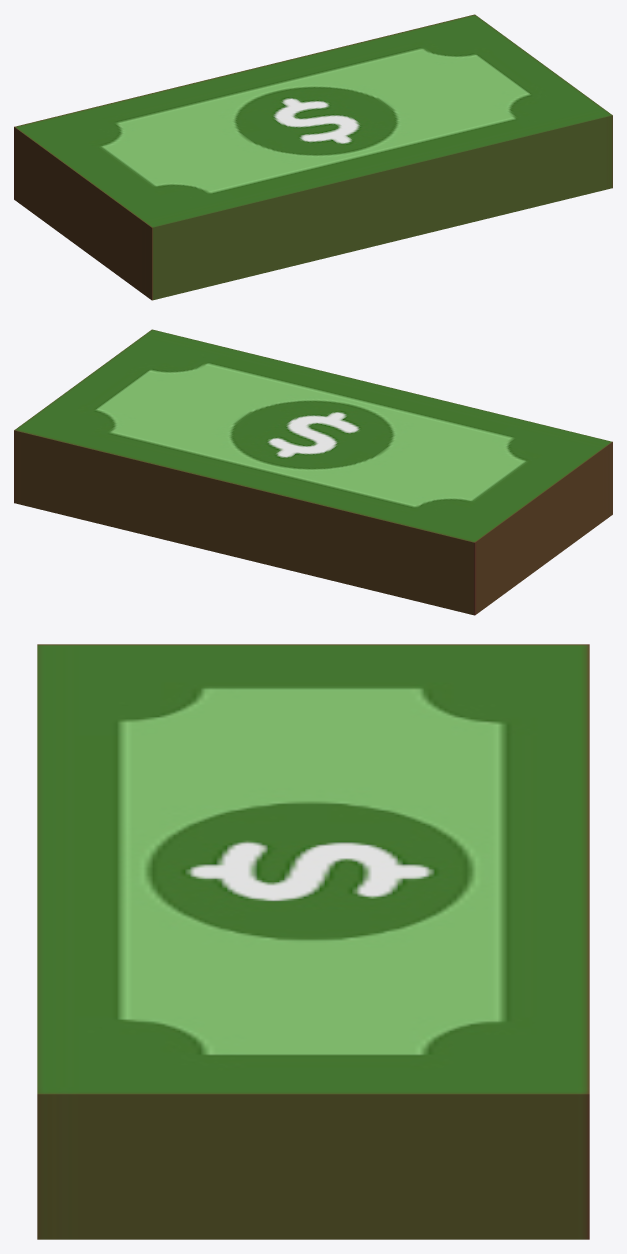
The model's file is Cash.fbx.
The picture shows the model from 3 angles, top to bottom: view 1: azimuth 30°, elevation 25°; view 2: azimuth 150°, elevation 25°; view 3: azimuth 270°, elevation 25°; orthographic projection. The views are drawn at different scales.
Visible parts, largest first — view 1: Cash; view 2: Cash; view 3: Cash.
Part boxes in pixels (x1,y1,x2,y2): Cash: (14, 14, 612, 300); Cash: (14, 329, 612, 615); Cash: (37, 644, 589, 1239).
Size of the model in its own units: 39.89 by 6.01 by 20.69.
